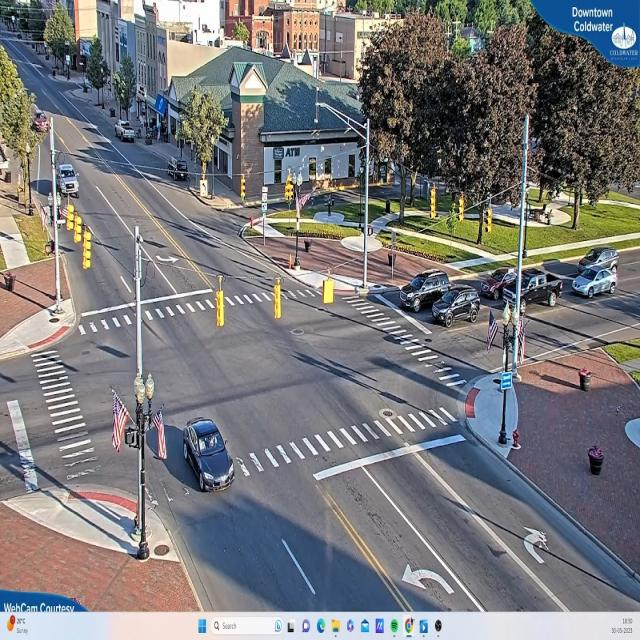car: (184, 418, 236, 492), (491, 271, 562, 308), (400, 272, 454, 314), (432, 289, 479, 327), (569, 267, 616, 298), (117, 120, 138, 143), (60, 180, 79, 197), (58, 162, 76, 178)
